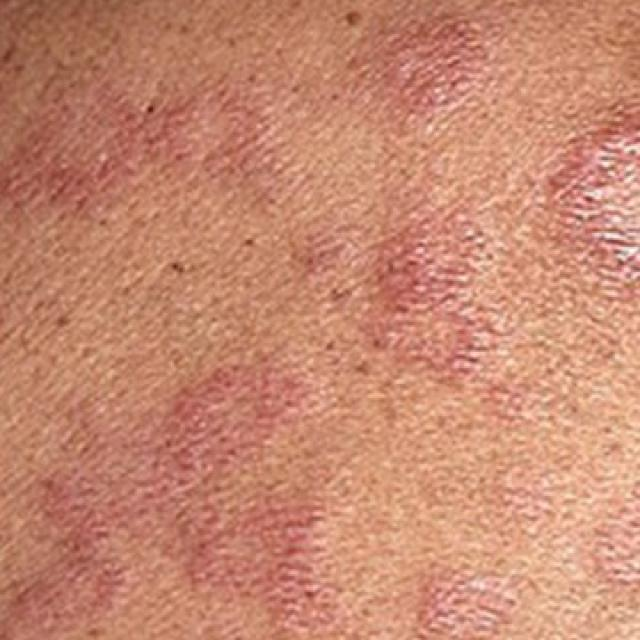Leprosy: (0, 348, 352, 638), (0, 46, 304, 219), (348, 185, 502, 379), (526, 87, 638, 292), (353, 0, 506, 124), (384, 540, 530, 638), (580, 477, 638, 602), (485, 446, 567, 521)
